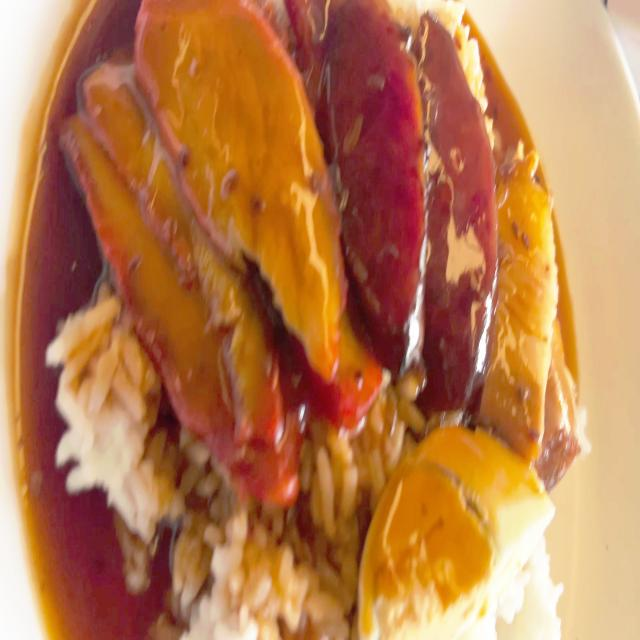boiled_egg: (364, 431, 546, 640)
chainese_sausage: (341, 0, 492, 420), (331, 0, 422, 355), (416, 14, 492, 418)
crispy_pork: (489, 146, 572, 465)
red_pork: (54, 0, 352, 462), (74, 62, 289, 483), (144, 0, 343, 359)
red_pork_and_crispy_pork: (51, 0, 587, 640)
rice: (160, 486, 339, 636), (54, 303, 153, 522), (513, 584, 569, 640)
